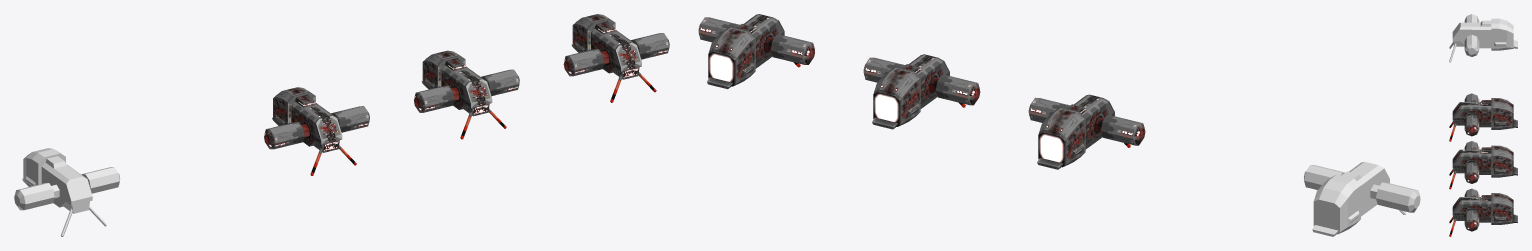
Rendered from hgn_bst_smt_clee_san.dae.
3 renders of one model, left to right at view 1: azimuth 30°, elevation 25°; view 2: azimuth 150°, elevation 25°; view 3: azimuth 270°, elevation 25°, orthographic. The views are drawn at different scales.
Visible parts, largest first — view 1: MULT[root_mesh]_LOD[1], MULT[root_mesh]_LOD[2], COL[Root], MULT[root_mesh]_LOD[0]; view 2: MULT[root_mesh]_LOD[0], COL[Root], MULT[root_mesh]_LOD[1], MULT[root_mesh]_LOD[2]; view 3: COL[Root], MULT[root_mesh]_LOD[1], MULT[root_mesh]_LOD[0], MULT[root_mesh]_LOD[2].
Boxes of the visible parts, bbox=[...] form: MULT[root_mesh]_LOD[1]: bbox=[414, 50, 519, 139]; MULT[root_mesh]_LOD[2]: bbox=[563, 14, 669, 102]; COL[Root]: bbox=[14, 148, 120, 236]; MULT[root_mesh]_LOD[0]: bbox=[264, 87, 369, 175]; MULT[root_mesh]_LOD[0]: bbox=[1028, 94, 1145, 169]; COL[Root]: bbox=[1304, 161, 1420, 236]; MULT[root_mesh]_LOD[1]: bbox=[863, 54, 980, 129]; MULT[root_mesh]_LOD[2]: bbox=[698, 14, 814, 89]; COL[Root]: bbox=[1449, 14, 1517, 62]; MULT[root_mesh]_LOD[1]: bbox=[1449, 141, 1517, 189]; MULT[root_mesh]_LOD[0]: bbox=[1449, 93, 1517, 141]; MULT[root_mesh]_LOD[2]: bbox=[1449, 188, 1517, 236].
Bounding box in the file's own units: 936 × 72.9 × 132.
22 materials, 22 textured.
